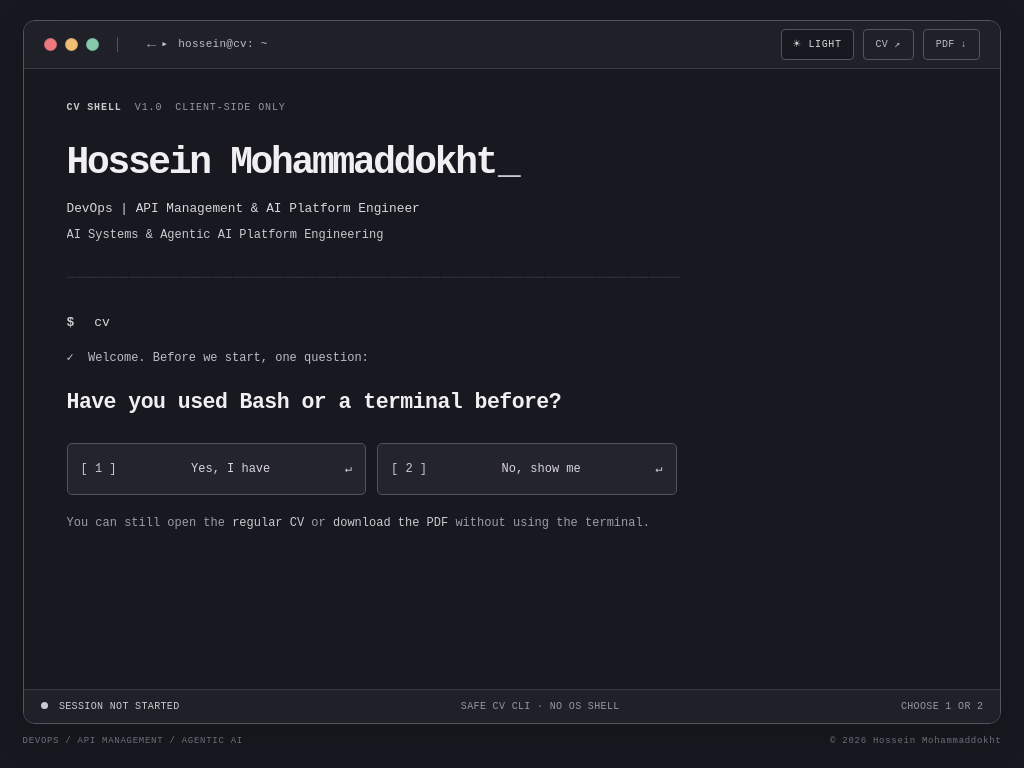
Scenario: Terminal-first CV interaction › returns from the desktop straight to the original CV Bash welcome screen
This screenshot has width=1024, height=768.
Click the button "[ 1 ] Yes, I have ↵". click: (216, 469)
box: [66,443,366,495]
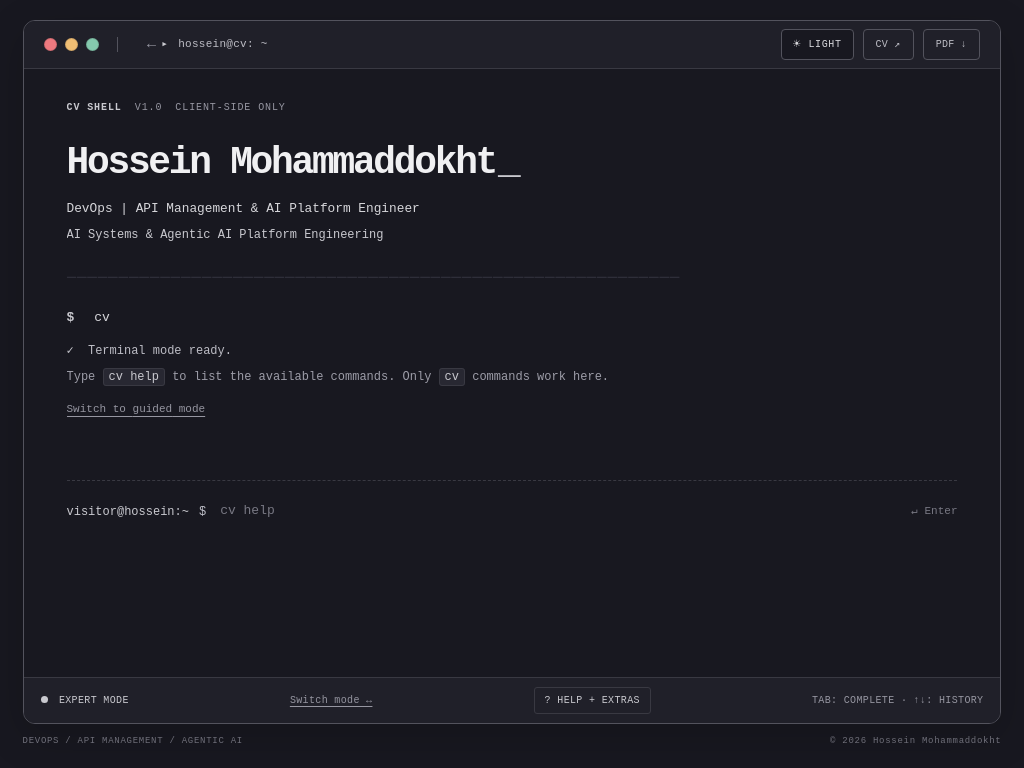
Click the button named "Minimize terminal to AI Ops desktop". click: (72, 44)
box: [65,38,78,51]
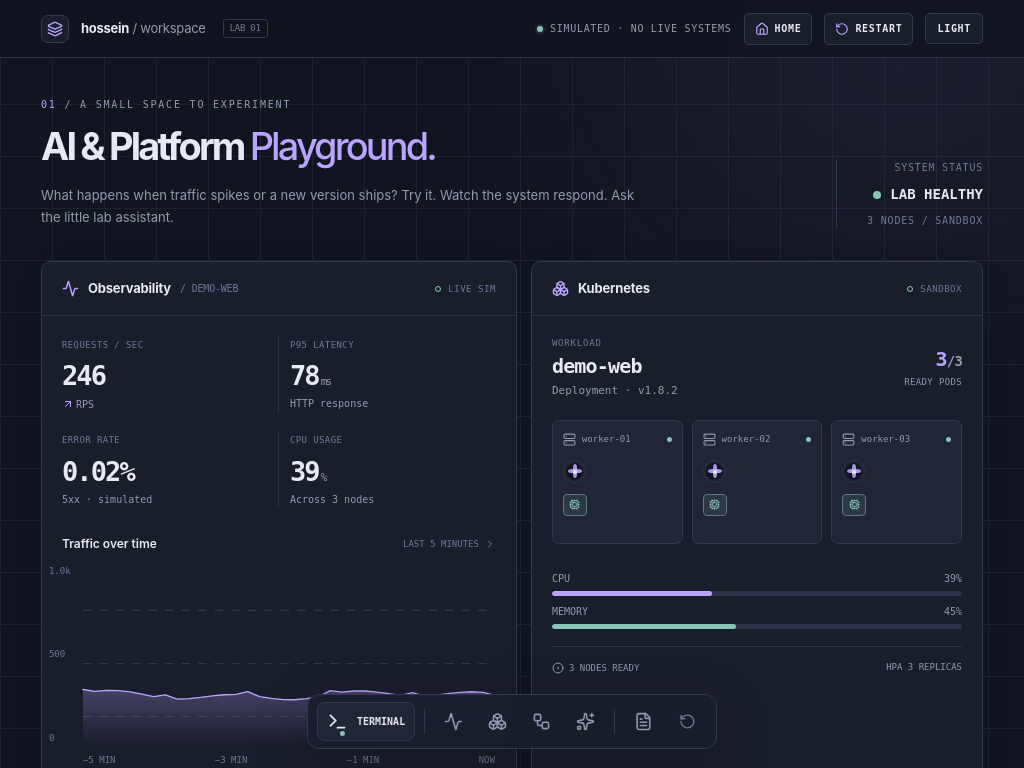
Now the element with class "cvcli-desktop-open" is shown
Click the button "HOME". click: (778, 28)
box: [744,12,812,44]
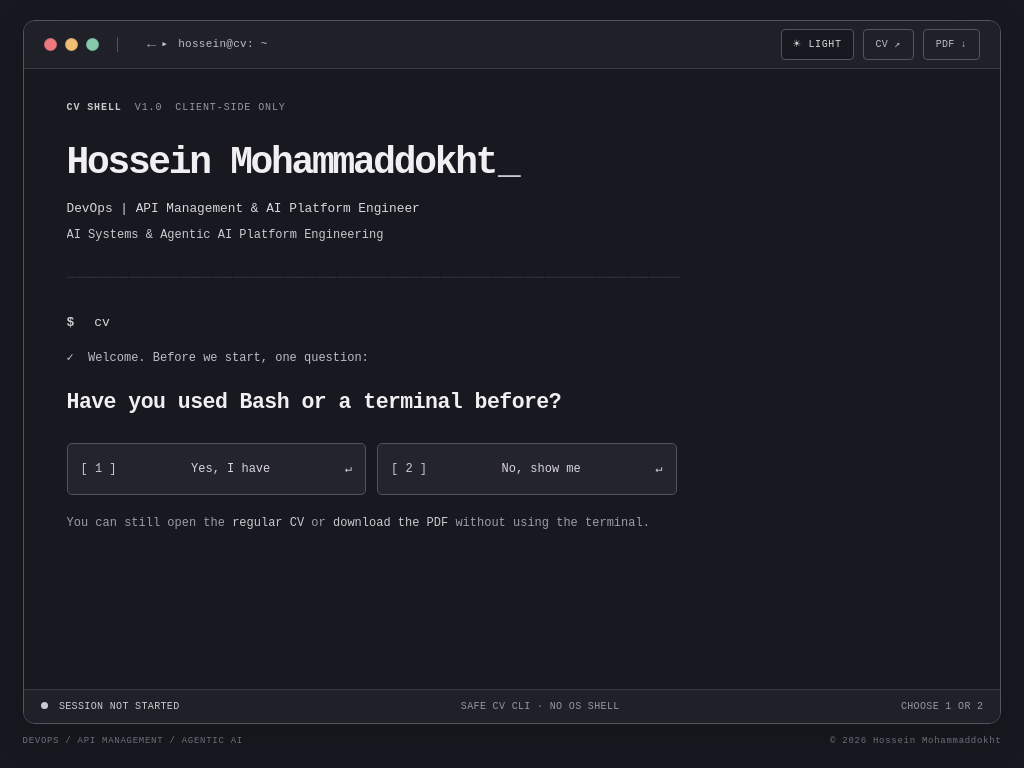
Now the text "Have you used Bash or a terminal before?" is shown, box [66,390,561,414]
